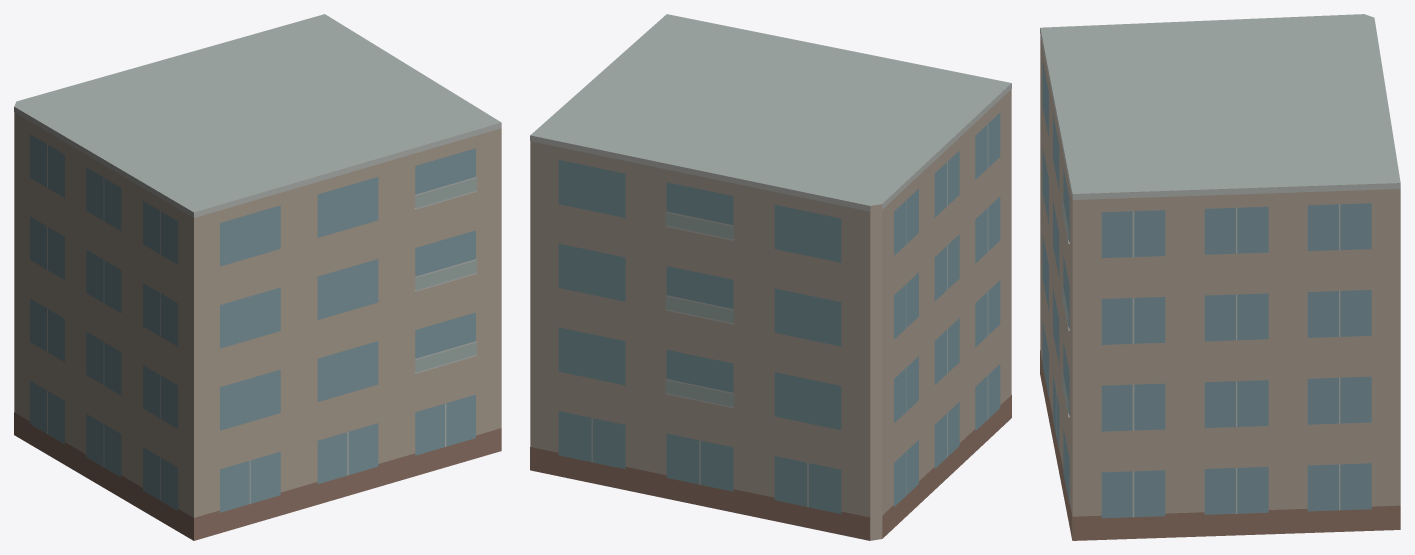
File: survey-upis-32901685.glb
The picture shows the model from 3 angles, left to right: view 1: azimuth 30°, elevation 25°; view 2: azimuth 150°, elevation 25°; view 3: azimuth 270°, elevation 25°; orthographic projection. The views are drawn at different scales.
Visible parts, largest first — view 1: survey-upis-32901685.tmp; view 2: survey-upis-32901685.tmp; view 3: survey-upis-32901685.tmp.
Boxes of the visible parts, bbox=[...] form: survey-upis-32901685.tmp: bbox=[14, 14, 501, 540]; survey-upis-32901685.tmp: bbox=[530, 14, 1011, 540]; survey-upis-32901685.tmp: bbox=[1040, 14, 1400, 540].
Bounding box in the file's own units: 15.82 × 14.2 × 13.39.
